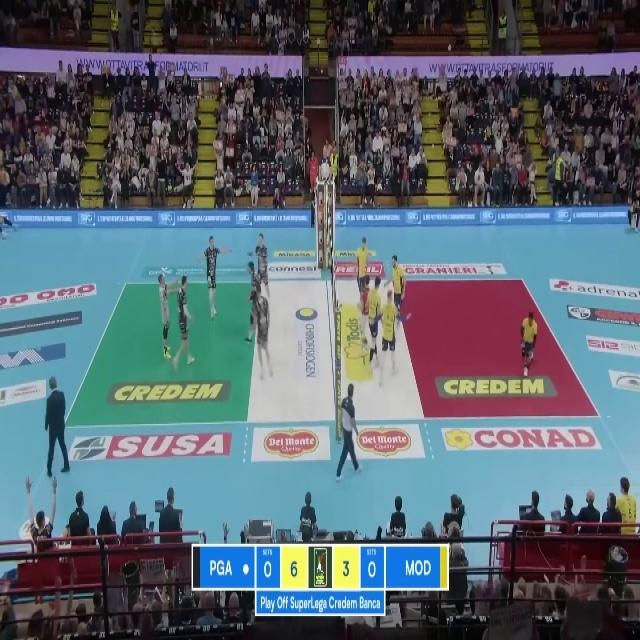volleyball court: (62, 279, 598, 424)
